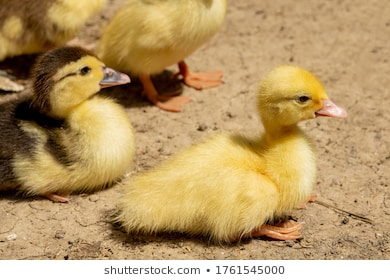duck: (120, 55, 364, 256), (1, 56, 150, 184)
